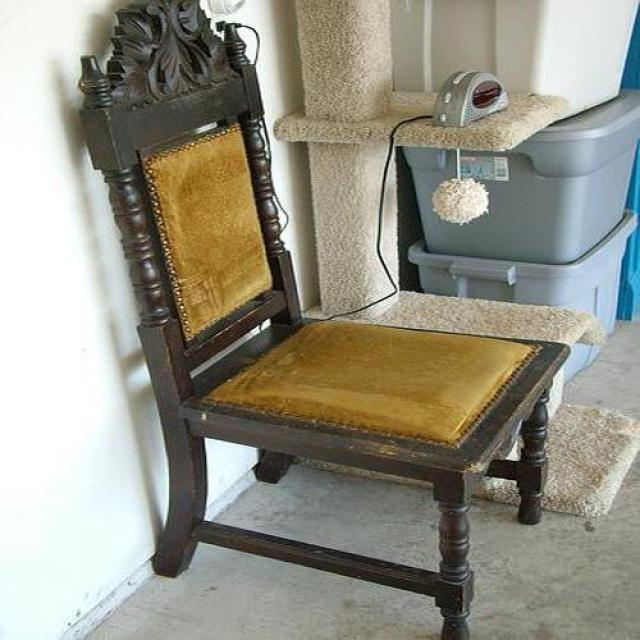chair: (79, 56, 571, 640)
